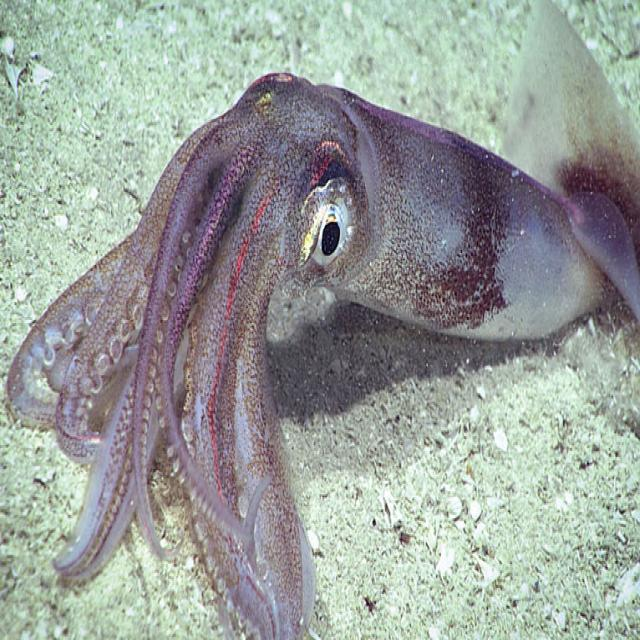SQUID: (4, 0, 640, 607)
